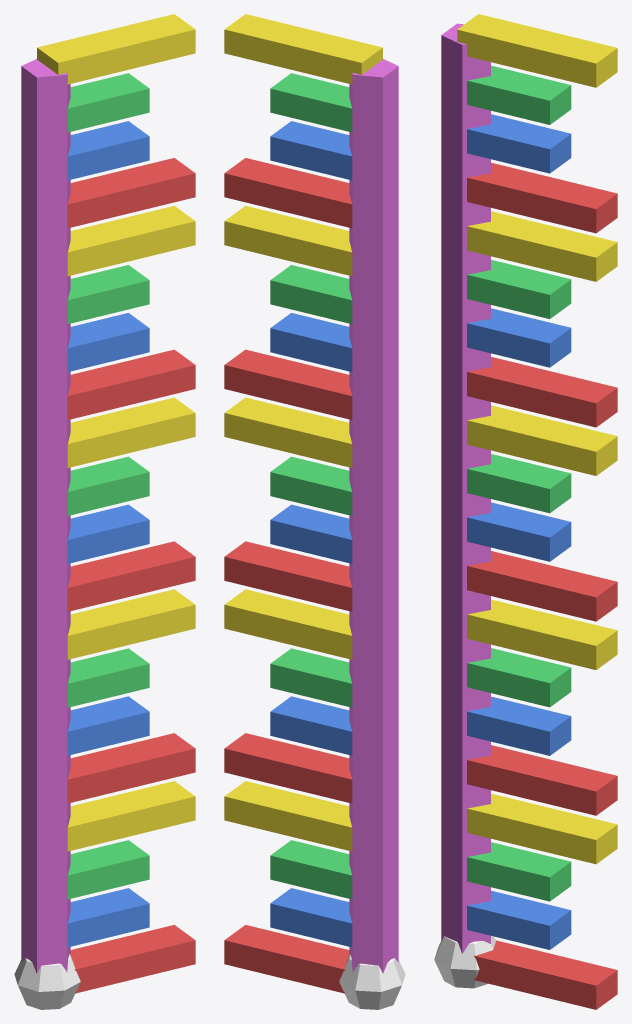
File: Primer_F_Straight.fbx
3 views of the same model, side by side, from view 1: azimuth 30°, elevation 25°; view 2: azimuth 150°, elevation 25°; view 3: azimuth 330°, elevation 25° (orthographic).
Visible parts, largest first — view 1: Primer_F_Straight; view 2: Primer_F_Straight; view 3: Primer_F_Straight.
Part boxes in pixels (<box>): Primer_F_Straight: <box>14,14,195,1009</box>; Primer_F_Straight: <box>224,14,405,1009</box>; Primer_F_Straight: <box>434,14,617,1009</box>.
Bounding box in the file's own units: 0.0365 × 0.199 × 0.013.
